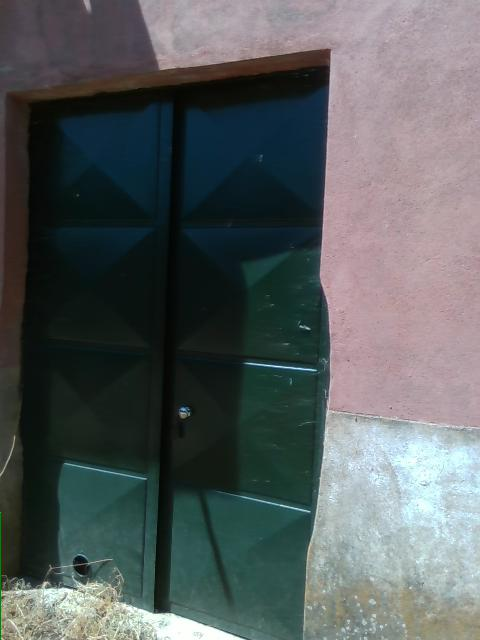door: (16, 46, 330, 639)
